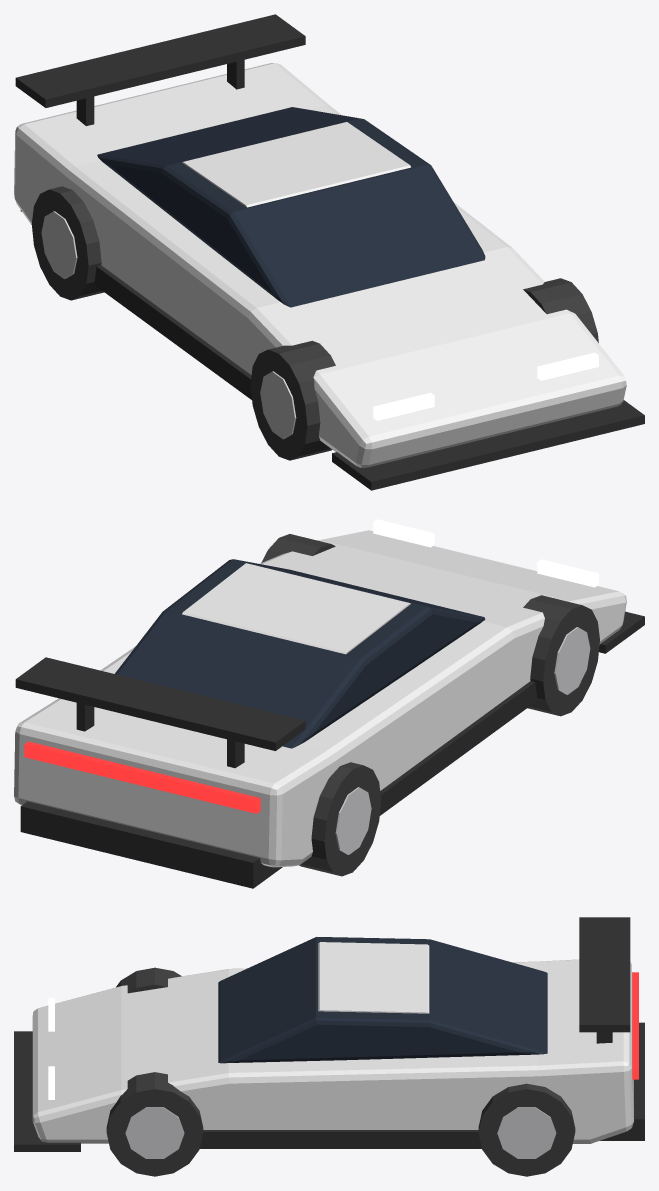
The model's file is car.glb.
The picture shows the model from 3 angles, top to bottom: view 1: azimuth 30°, elevation 25°; view 2: azimuth 150°, elevation 25°; view 3: azimuth 270°, elevation 25°; orthographic projection. The views are drawn at different scales.
Parts seen in each view (by area): view 1: Body, Cabin, Roof, Wing, Splitter, Wheel_FL, Wheel_RL, SkirtL, Wheel_FR, Cylinder, Cylinder.002, HeadL (+1 smaller); view 2: Body, Cabin, Roof, Wing, Diffuser, Wheel_FL, Wheel_RL, TailLight, SkirtL, Cylinder.002, Cylinder, Wheel_FR (+3 smaller); view 3: Body, Cabin, Roof, Wing, SkirtR, Wheel_FR, Wheel_RR, Splitter, Cylinder.003, Cylinder.001, Diffuser, Wheel_FL (+1 smaller).
Part boxes in pixels (x1,y1,x2,y2): Body: (14,63,626,467); Cabin: (97,107,485,307); Roof: (182,122,410,207); Wing: (15,14,305,107); Splitter: (332,400,644,490); Wheel_FL: (250,340,335,460); Wheel_RL: (31,186,104,300); SkirtL: (93,265,251,399); Wheel_FR: (523,278,598,342); Cylinder: (260,371,296,439); Cylinder.002: (41,211,77,278); HeadL: (373,392,434,420); Body: (14,530,626,867); Cabin: (115,559,485,748); Roof: (182,563,410,654); Wing: (15,657,305,750); Diffuser: (20,801,282,888); Wheel_FL: (523,595,599,716); Wheel_RL: (299,762,381,876); TailLight: (24,741,260,813); SkirtL: (379,681,537,815); Cylinder.002: (335,787,371,854); Cylinder: (554,627,590,694); Wheel_FR: (261,534,335,562); Body: (32,959,633,1143); Cabin: (218,937,547,1063); Roof: (318,942,429,1013); Wing: (579,917,630,1032); SkirtR: (200,1130,481,1148); Wheel_FR: (106,1072,203,1176); Wheel_RR: (478,1083,575,1176); Splitter: (14,1031,80,1151); Cylinder.003: (497,1107,556,1158); Cylinder.001: (125,1107,184,1158); Diffuser: (600,1022,644,1140); Wheel_FL: (116,967,181,993).
Size of the model in its own units: 2.16 by 1.19 by 4.7.
